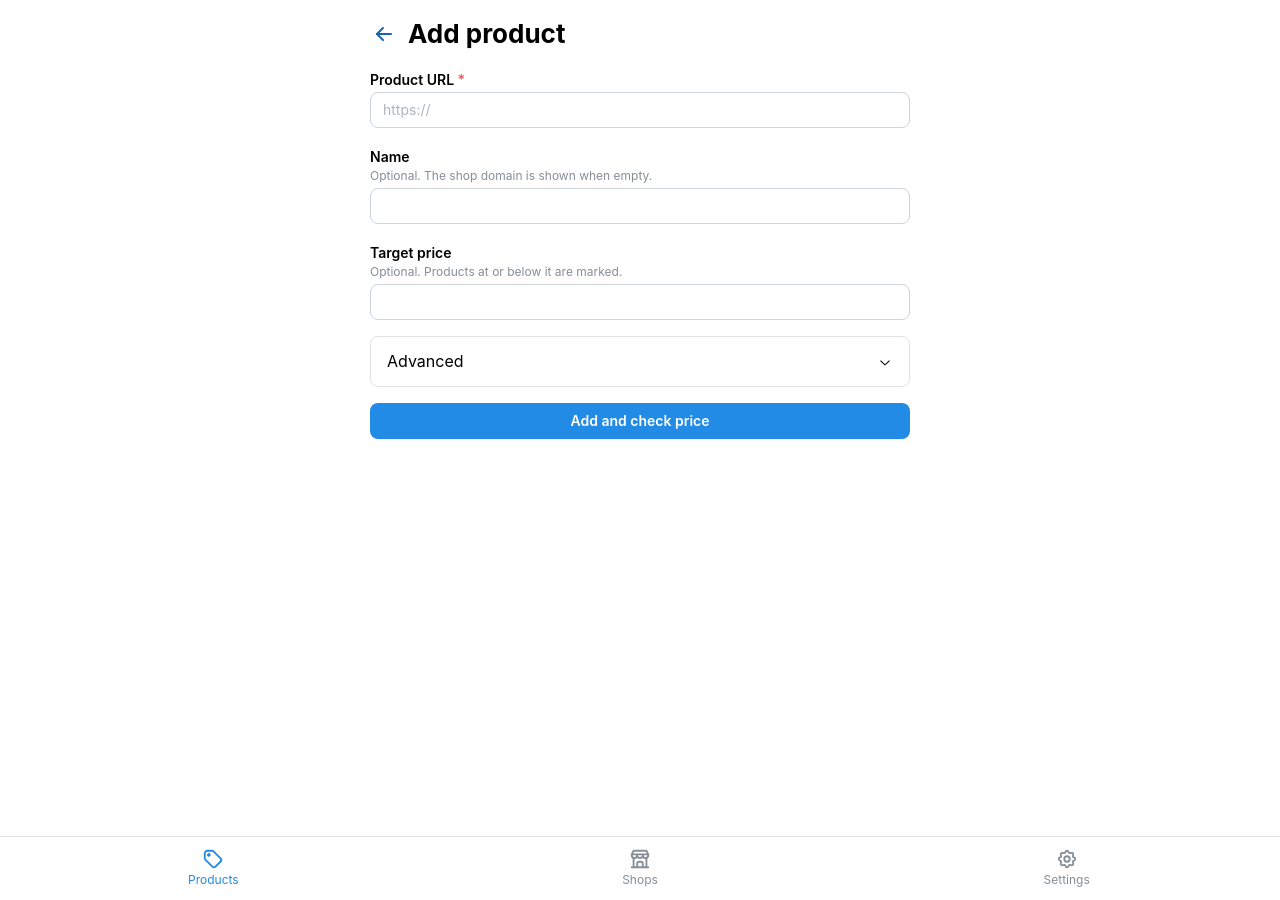
NewProductPage › reports a failed add after the user left the page
Step 1. Type "https://shop.example/p/1" into the field labelled "Product URL *" → (640, 110), box [370,92,910,128]
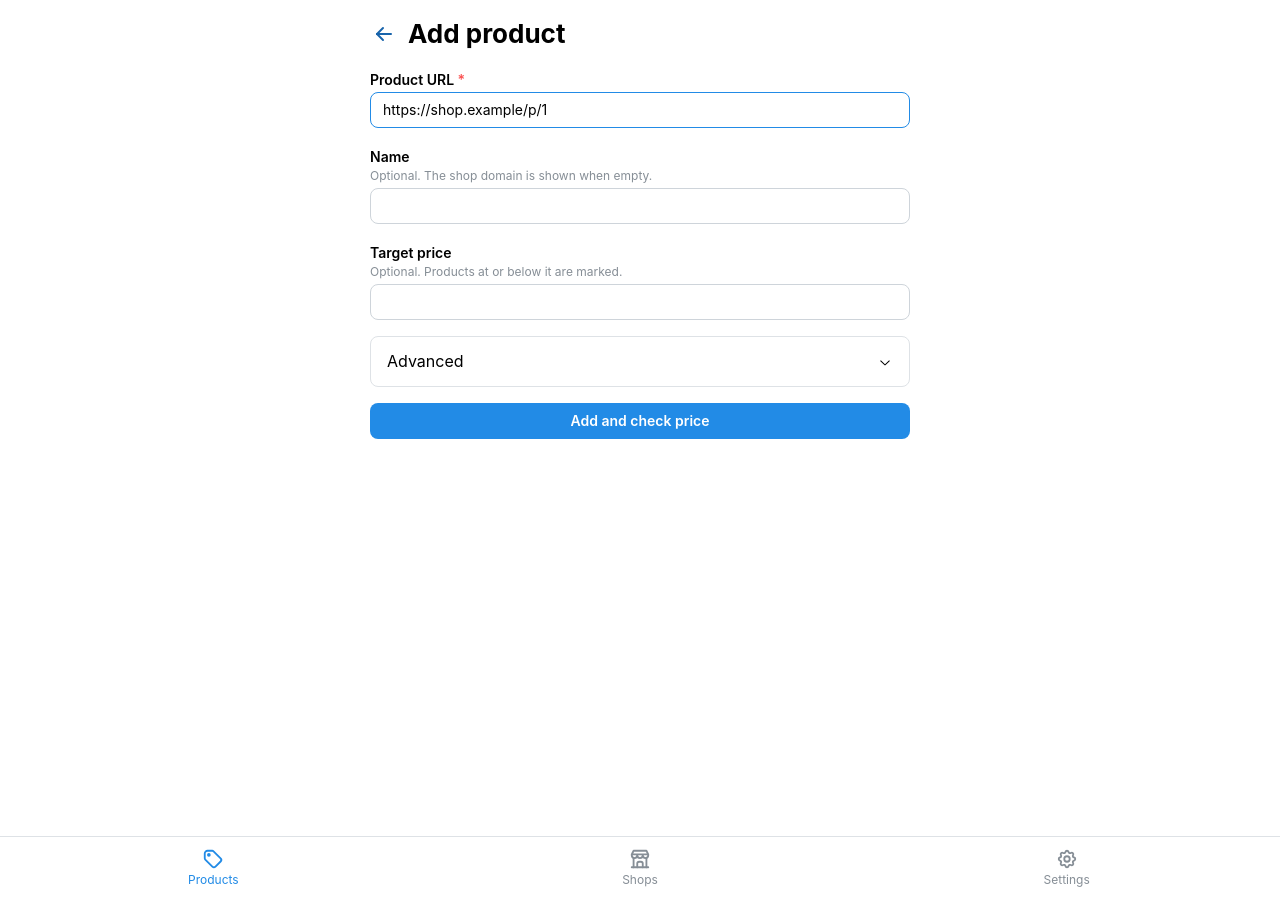
Step 2. Click the button "Add and check price" → (640, 421), box [370,403,910,439]
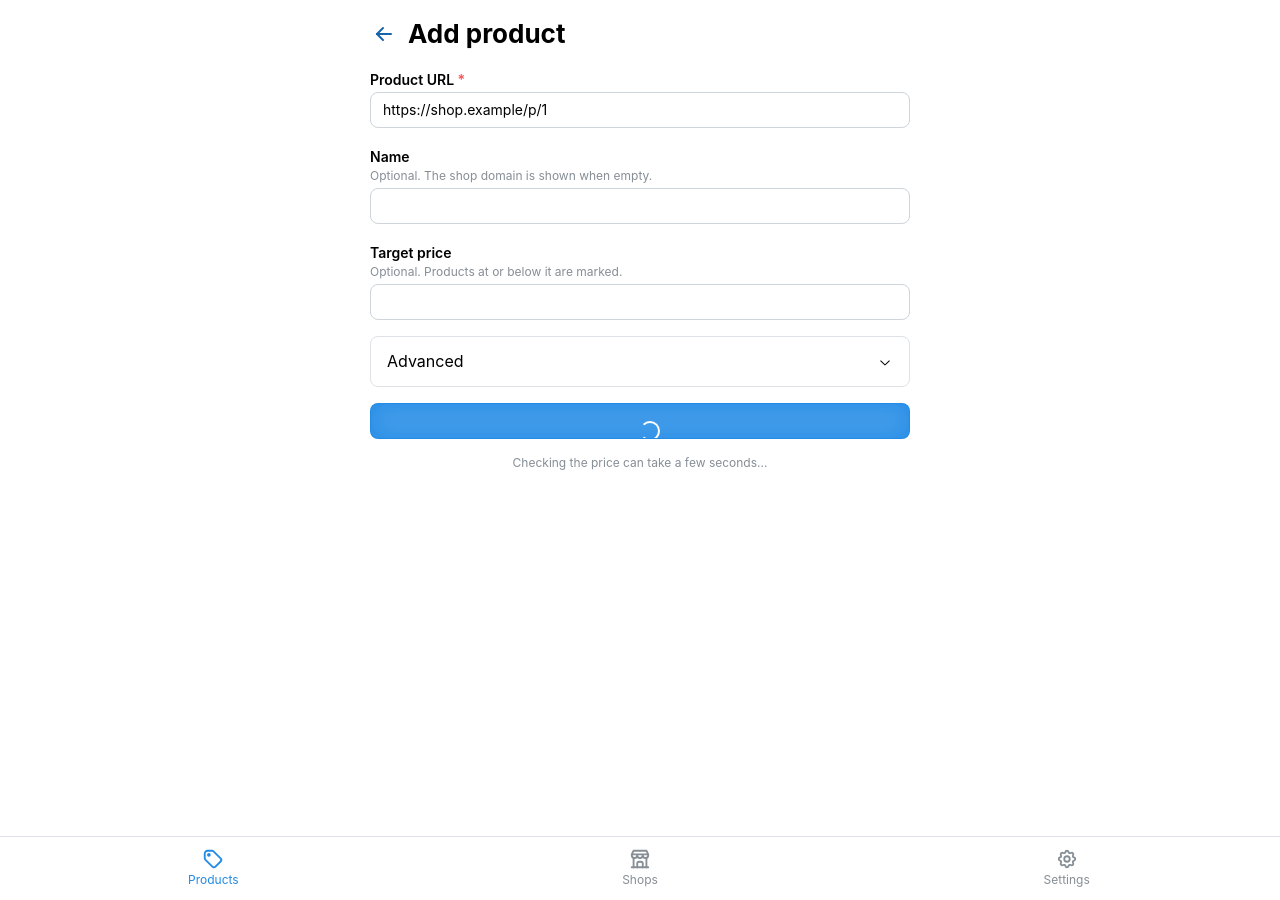
Step 3. Click the link "Shops" → (640, 868), box [622,848,658,887]
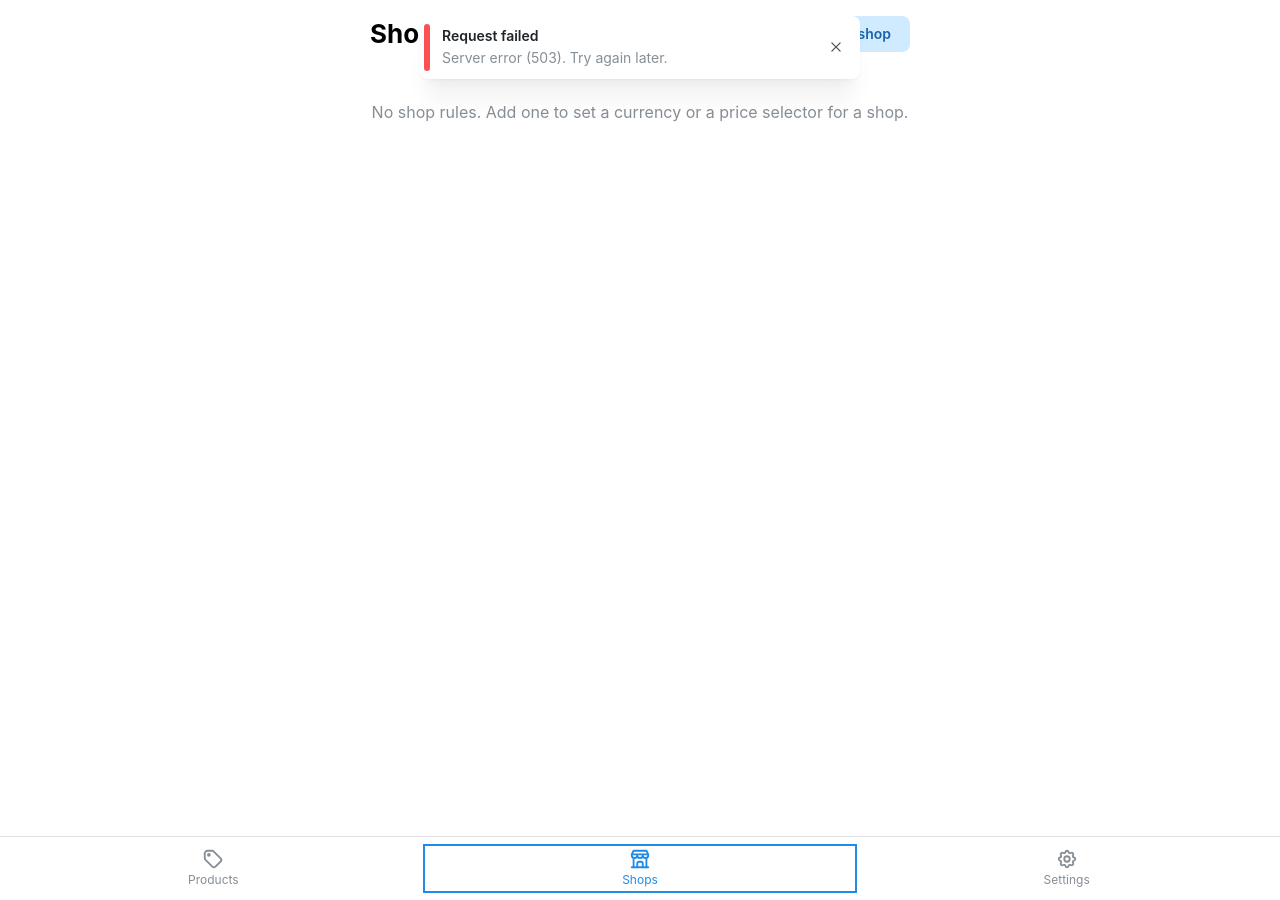
Now the text "Request failed" is shown, box [442,27,539,44]
